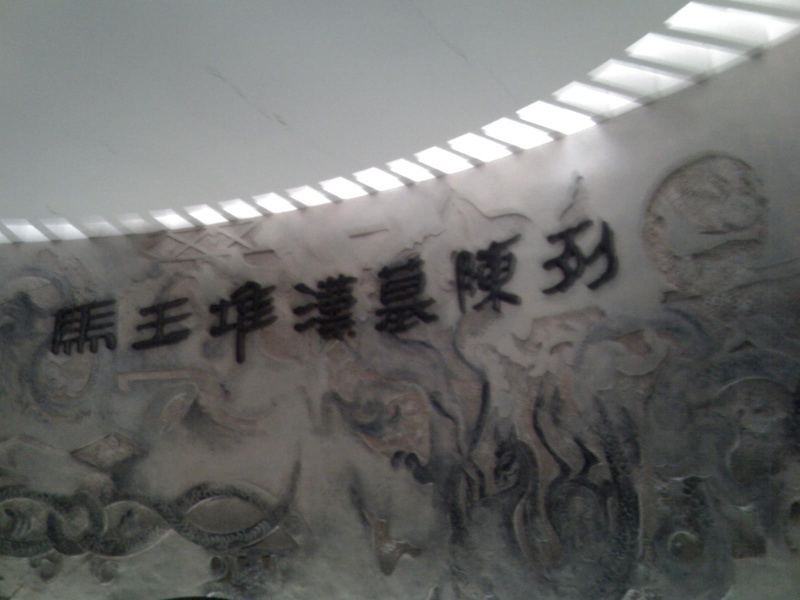text: (49, 218, 64, 395), (65, 218, 80, 395), (81, 218, 96, 395), (97, 218, 112, 395), (113, 218, 128, 395), (129, 218, 144, 395), (145, 218, 160, 395), (161, 218, 176, 395), (177, 218, 192, 395), (193, 218, 208, 395), (209, 218, 224, 395), (225, 218, 240, 395), (241, 218, 256, 395), (257, 218, 272, 395), (273, 218, 288, 395), (289, 218, 304, 395), (305, 218, 320, 395), (321, 218, 336, 395), (337, 218, 352, 395), (353, 218, 368, 395), (369, 218, 384, 395), (385, 218, 400, 395), (401, 218, 416, 395), (417, 218, 432, 395), (433, 218, 448, 395), (449, 218, 464, 395), (465, 218, 480, 395), (481, 218, 496, 395), (497, 218, 512, 395), (513, 218, 528, 395), (529, 218, 544, 395), (545, 218, 560, 395), (561, 218, 576, 395), (577, 218, 592, 395), (593, 218, 608, 395), (609, 218, 624, 395), (40, 218, 48, 395), (625, 218, 626, 395)
